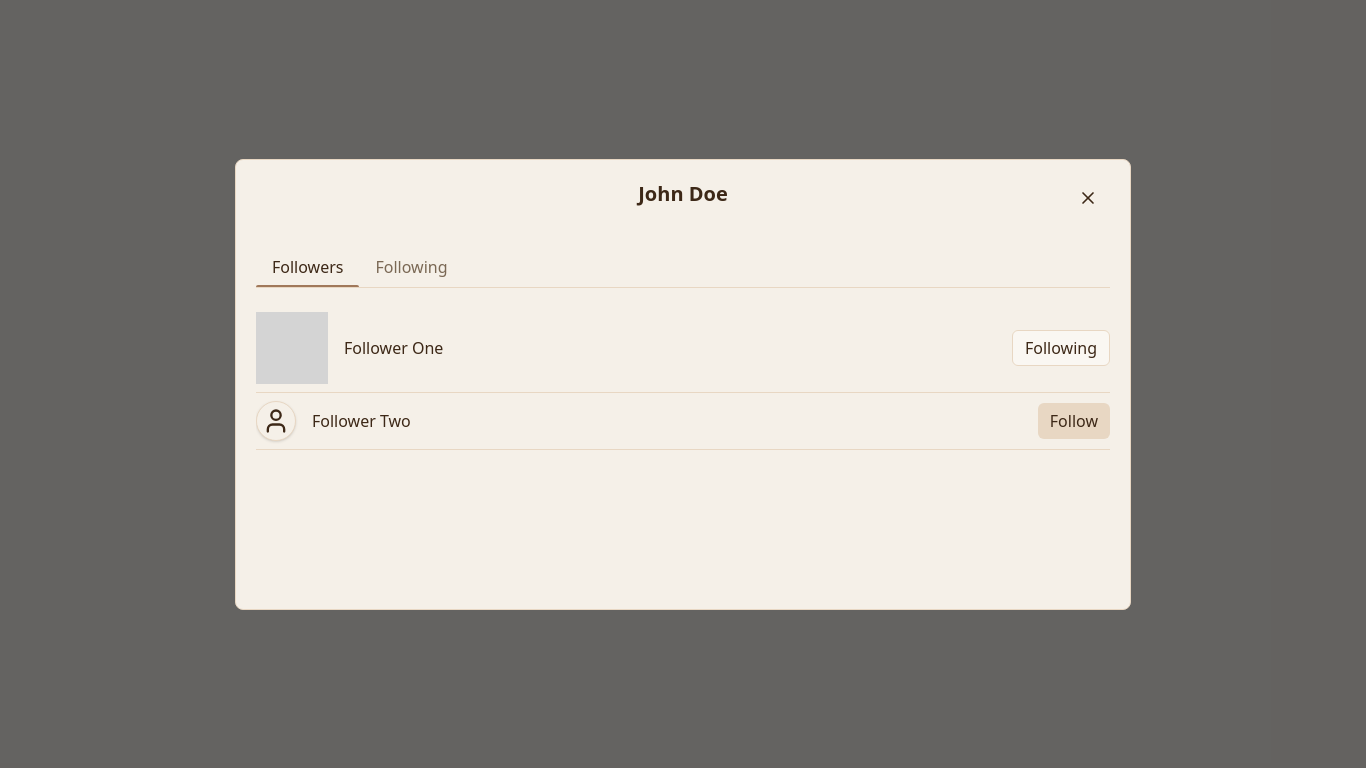
Scenario: FollowsModal › follow/unfollow actions › prevents concurrent follow/unfollow actions
Expected: the button "Follower Two" is shown, [312,408,411,432]
# Click once and verify button gets disabled
Click the button "Follow": (1074, 420) [1038,402,1110,438]
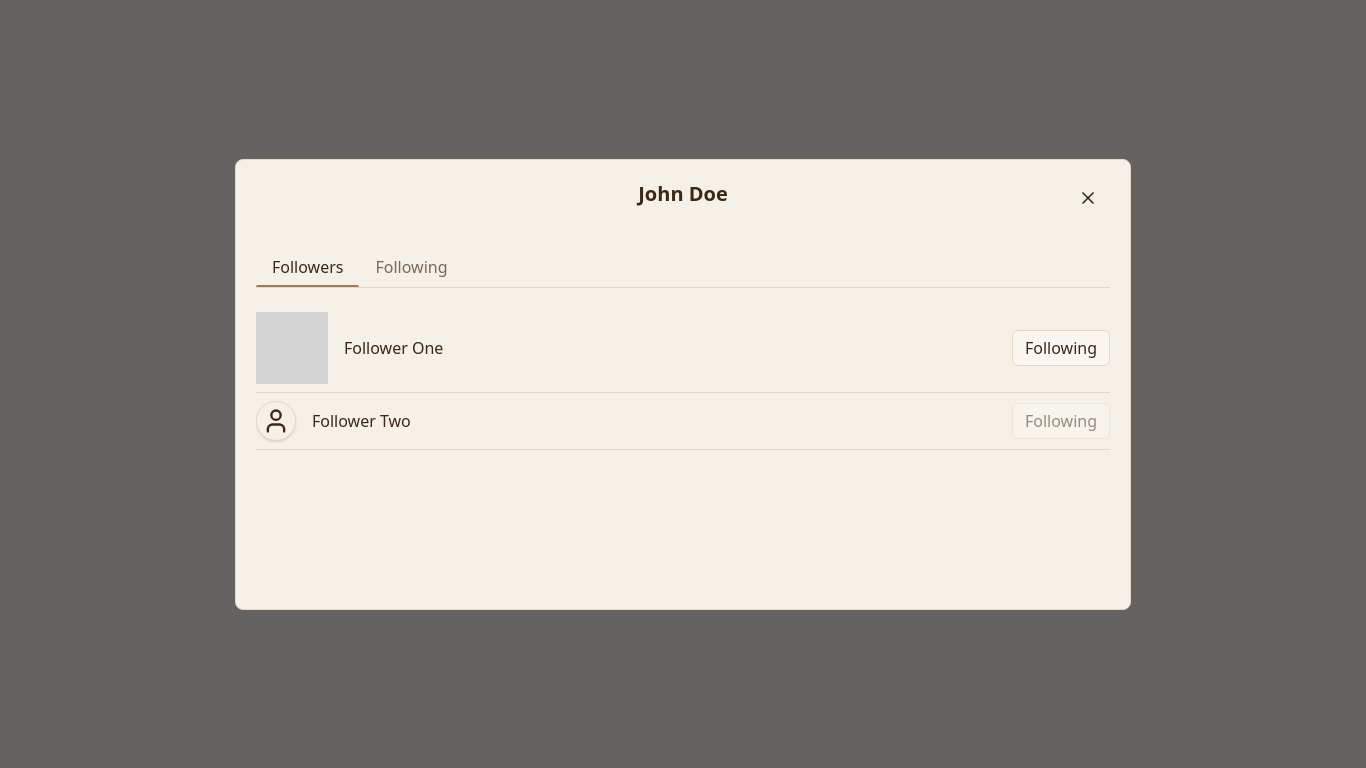
Result: the 3rd button "Following" is disabled at [1012,402,1110,438]
